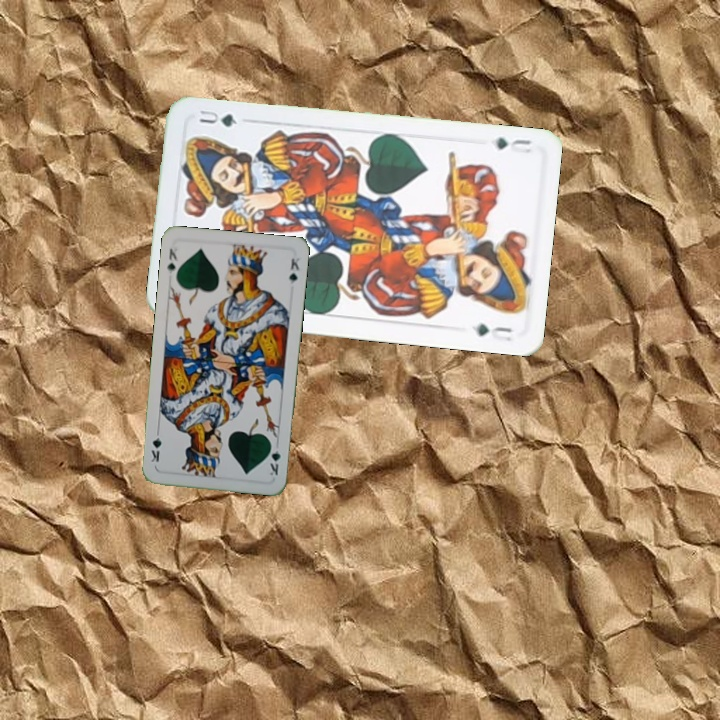GK: (265, 439, 283, 478), (163, 245, 181, 276)
GU: (491, 133, 535, 156)
